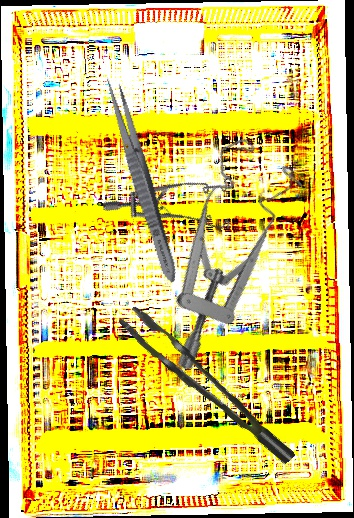Dressing Forceps: (99, 73, 184, 287)
Speculum: (92, 123, 340, 376), (100, 146, 248, 277)
Tissue Forceps: (118, 290, 296, 486)
